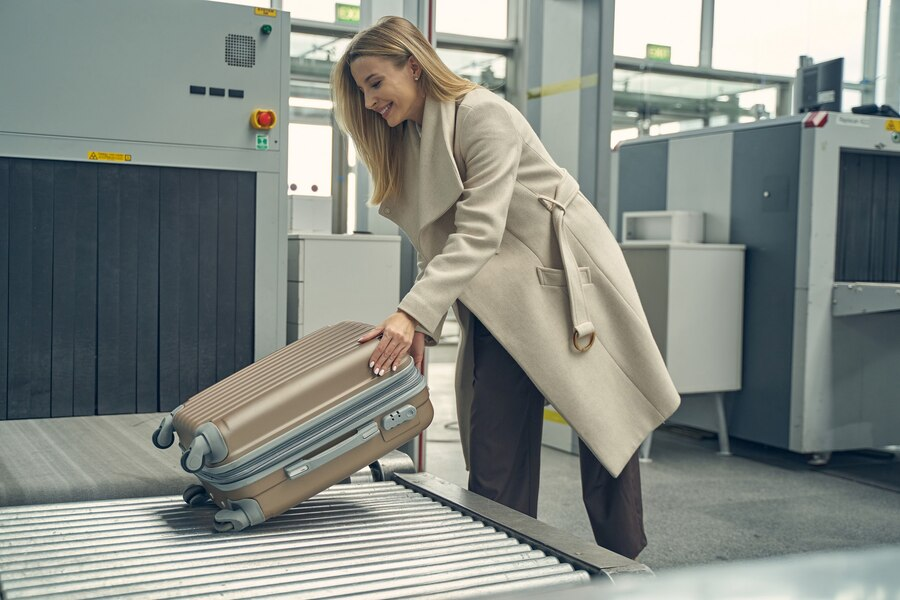baggage: (143, 317, 439, 537)
